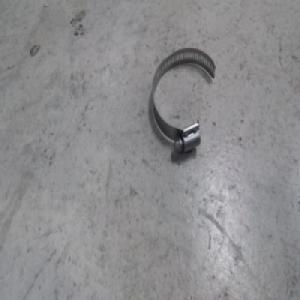AdjustableClamp: (150, 45, 219, 153)
